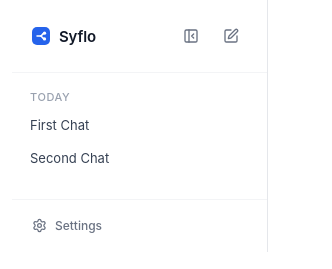
Test: Sidebar › opens the context menu on right-click with rename and delete options
Right-click the text "First Chat" at [60, 124], box left=30, top=116, right=89, bottom=132
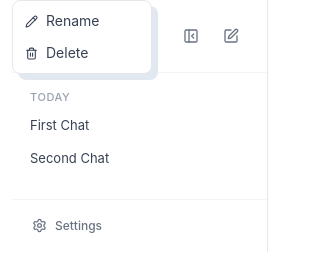
expect the button "Rename" is shown: met, box left=13, top=5, right=151, bottom=37
expect the button "Delete" is shown: met, box left=13, top=37, right=151, bottom=69
